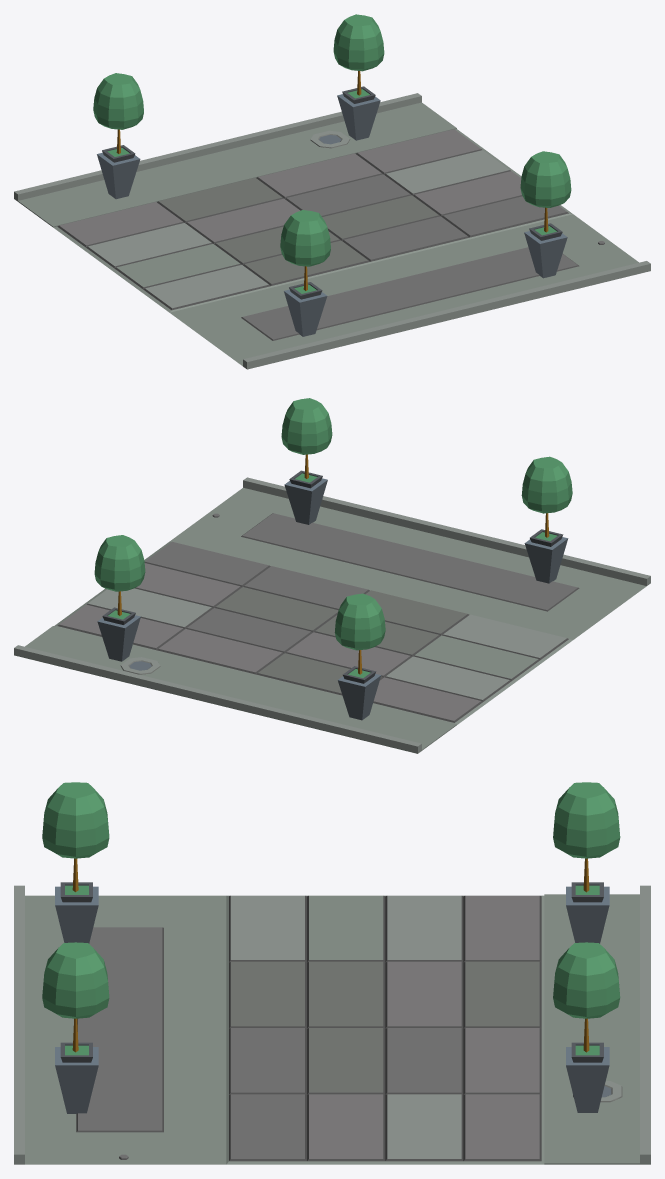
The model's file is Road_C.gltf.
3 views of the same model, one above another, from view 1: azimuth 30°, elevation 25°; view 2: azimuth 150°, elevation 25°; view 3: azimuth 270°, elevation 25° (orthographic). The views are drawn at different scales.
Parts seen in each view (by area): view 1: Scifi_Panel_02 Plaza014_group4; view 2: Scifi_Panel_02 Plaza014_group4; view 3: Scifi_Panel_02 Plaza014_group4.
Part boxes in pixels (x1,y1,x2,y2): Scifi_Panel_02 Plaza014_group4: (14,14,650,369); Scifi_Panel_02 Plaza014_group4: (14,398,650,753); Scifi_Panel_02 Plaza014_group4: (14,782,650,1164).
Size of what is drawn, in the model's own units: 10 by 2.77 by 10.
1 material, 1 textured.
